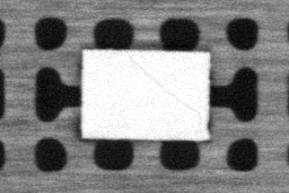DIE_CRACK: (128, 55, 200, 114)
